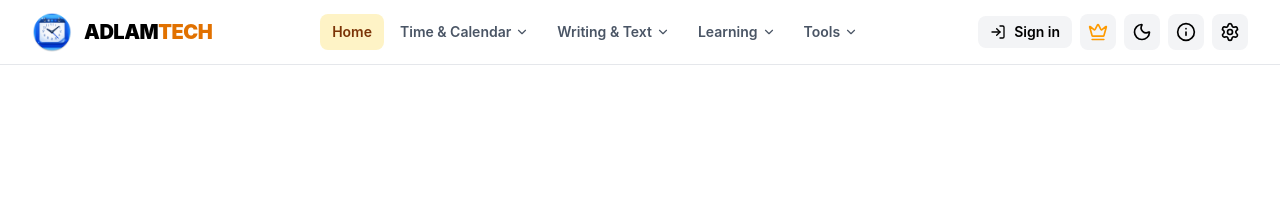
Test: Navbar › shows correct items in Learning category
The category button is the one with ChevronDown icon
What coordinates should you click on to do the following:
click the button "Learning"
I would click on:
 (737, 32)
Its box is [686,14,788,50].
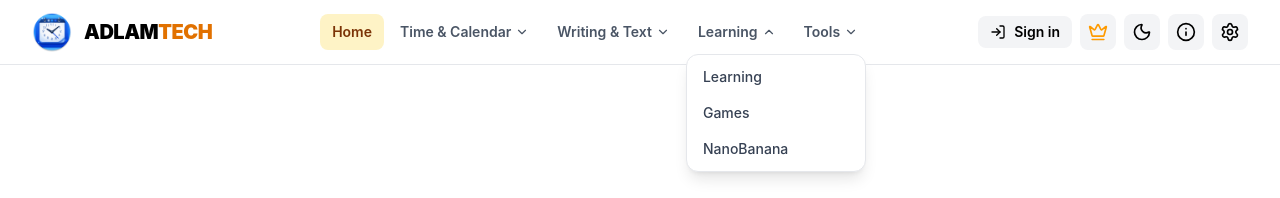
expect the link "Games" is shown: met, box [703,104,750,121]
expect the link "NanoBanana" is shown: met, box [703,140,788,157]
